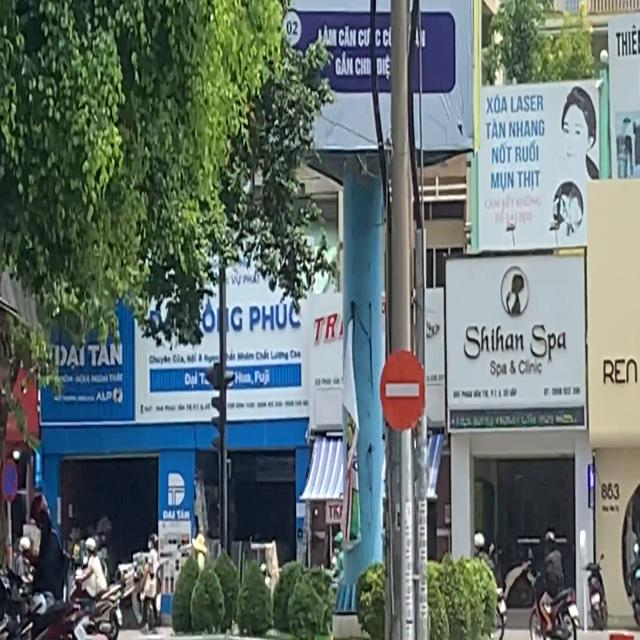Cam do: (2, 458, 18, 503)
Cam nguoc chieu: (378, 346, 428, 434)
